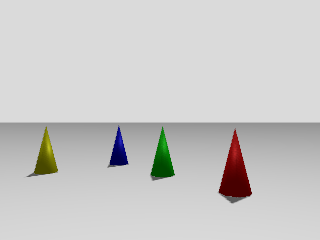blue: (108, 125, 129, 166)
green: (150, 124, 175, 179)
red: (218, 128, 253, 198)
yellow: (32, 123, 59, 176)
